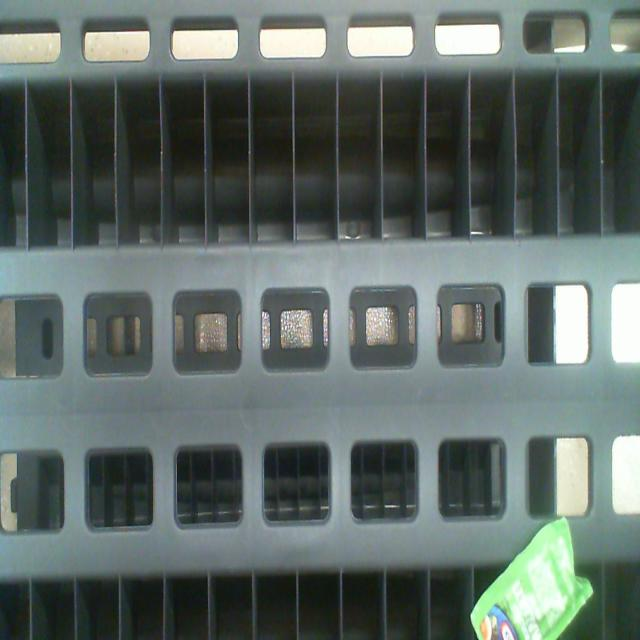snack: (472, 520, 590, 640)
